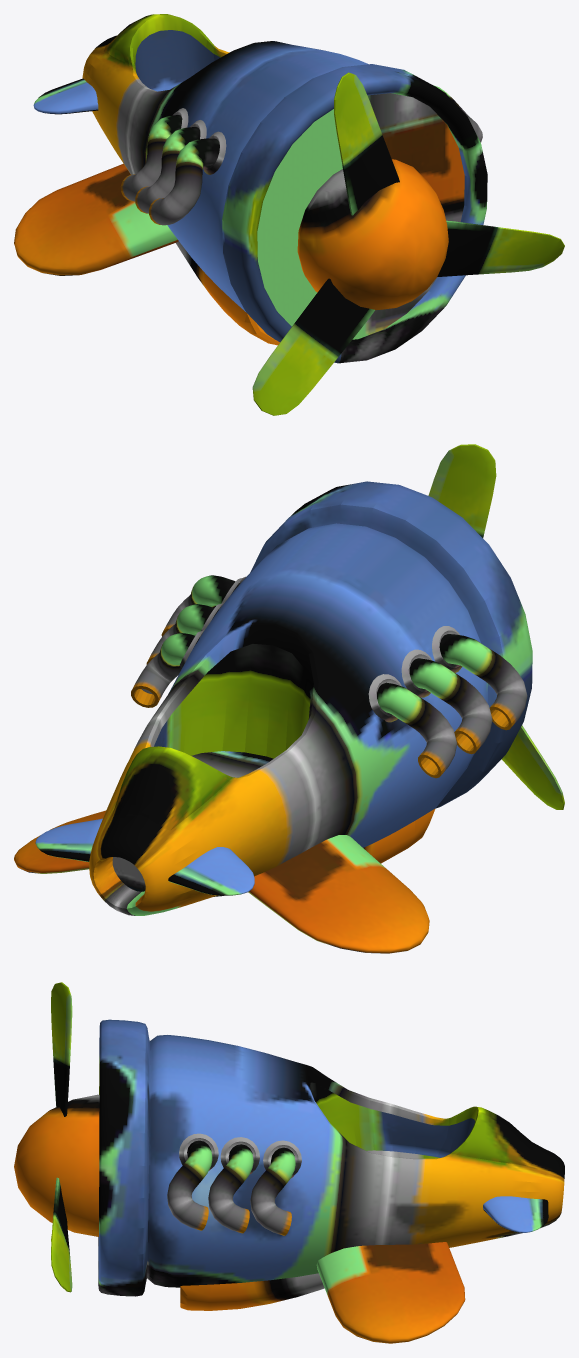
File: seymourplane.DAE
The picture shows the model from 3 angles, top to bottom: view 1: azimuth 30°, elevation 25°; view 2: azimuth 150°, elevation 25°; view 3: azimuth 270°, elevation 25°; orthographic projection. The views are drawn at different scales.
Parts seen in each view (by area): view 1: plane, prop; view 2: plane, prop; view 3: plane, prop.
Part boxes in pixels (bbox=[...]): plane: bbox=[14, 14, 487, 363]; prop: bbox=[252, 72, 564, 415]; plane: bbox=[14, 481, 532, 953]; prop: bbox=[428, 444, 564, 809]; plane: bbox=[14, 1019, 564, 1343]; prop: bbox=[51, 982, 72, 1292].
Size of the model in its own units: 7.59 by 6.7 by 11.16.
2 materials, 2 textured.
